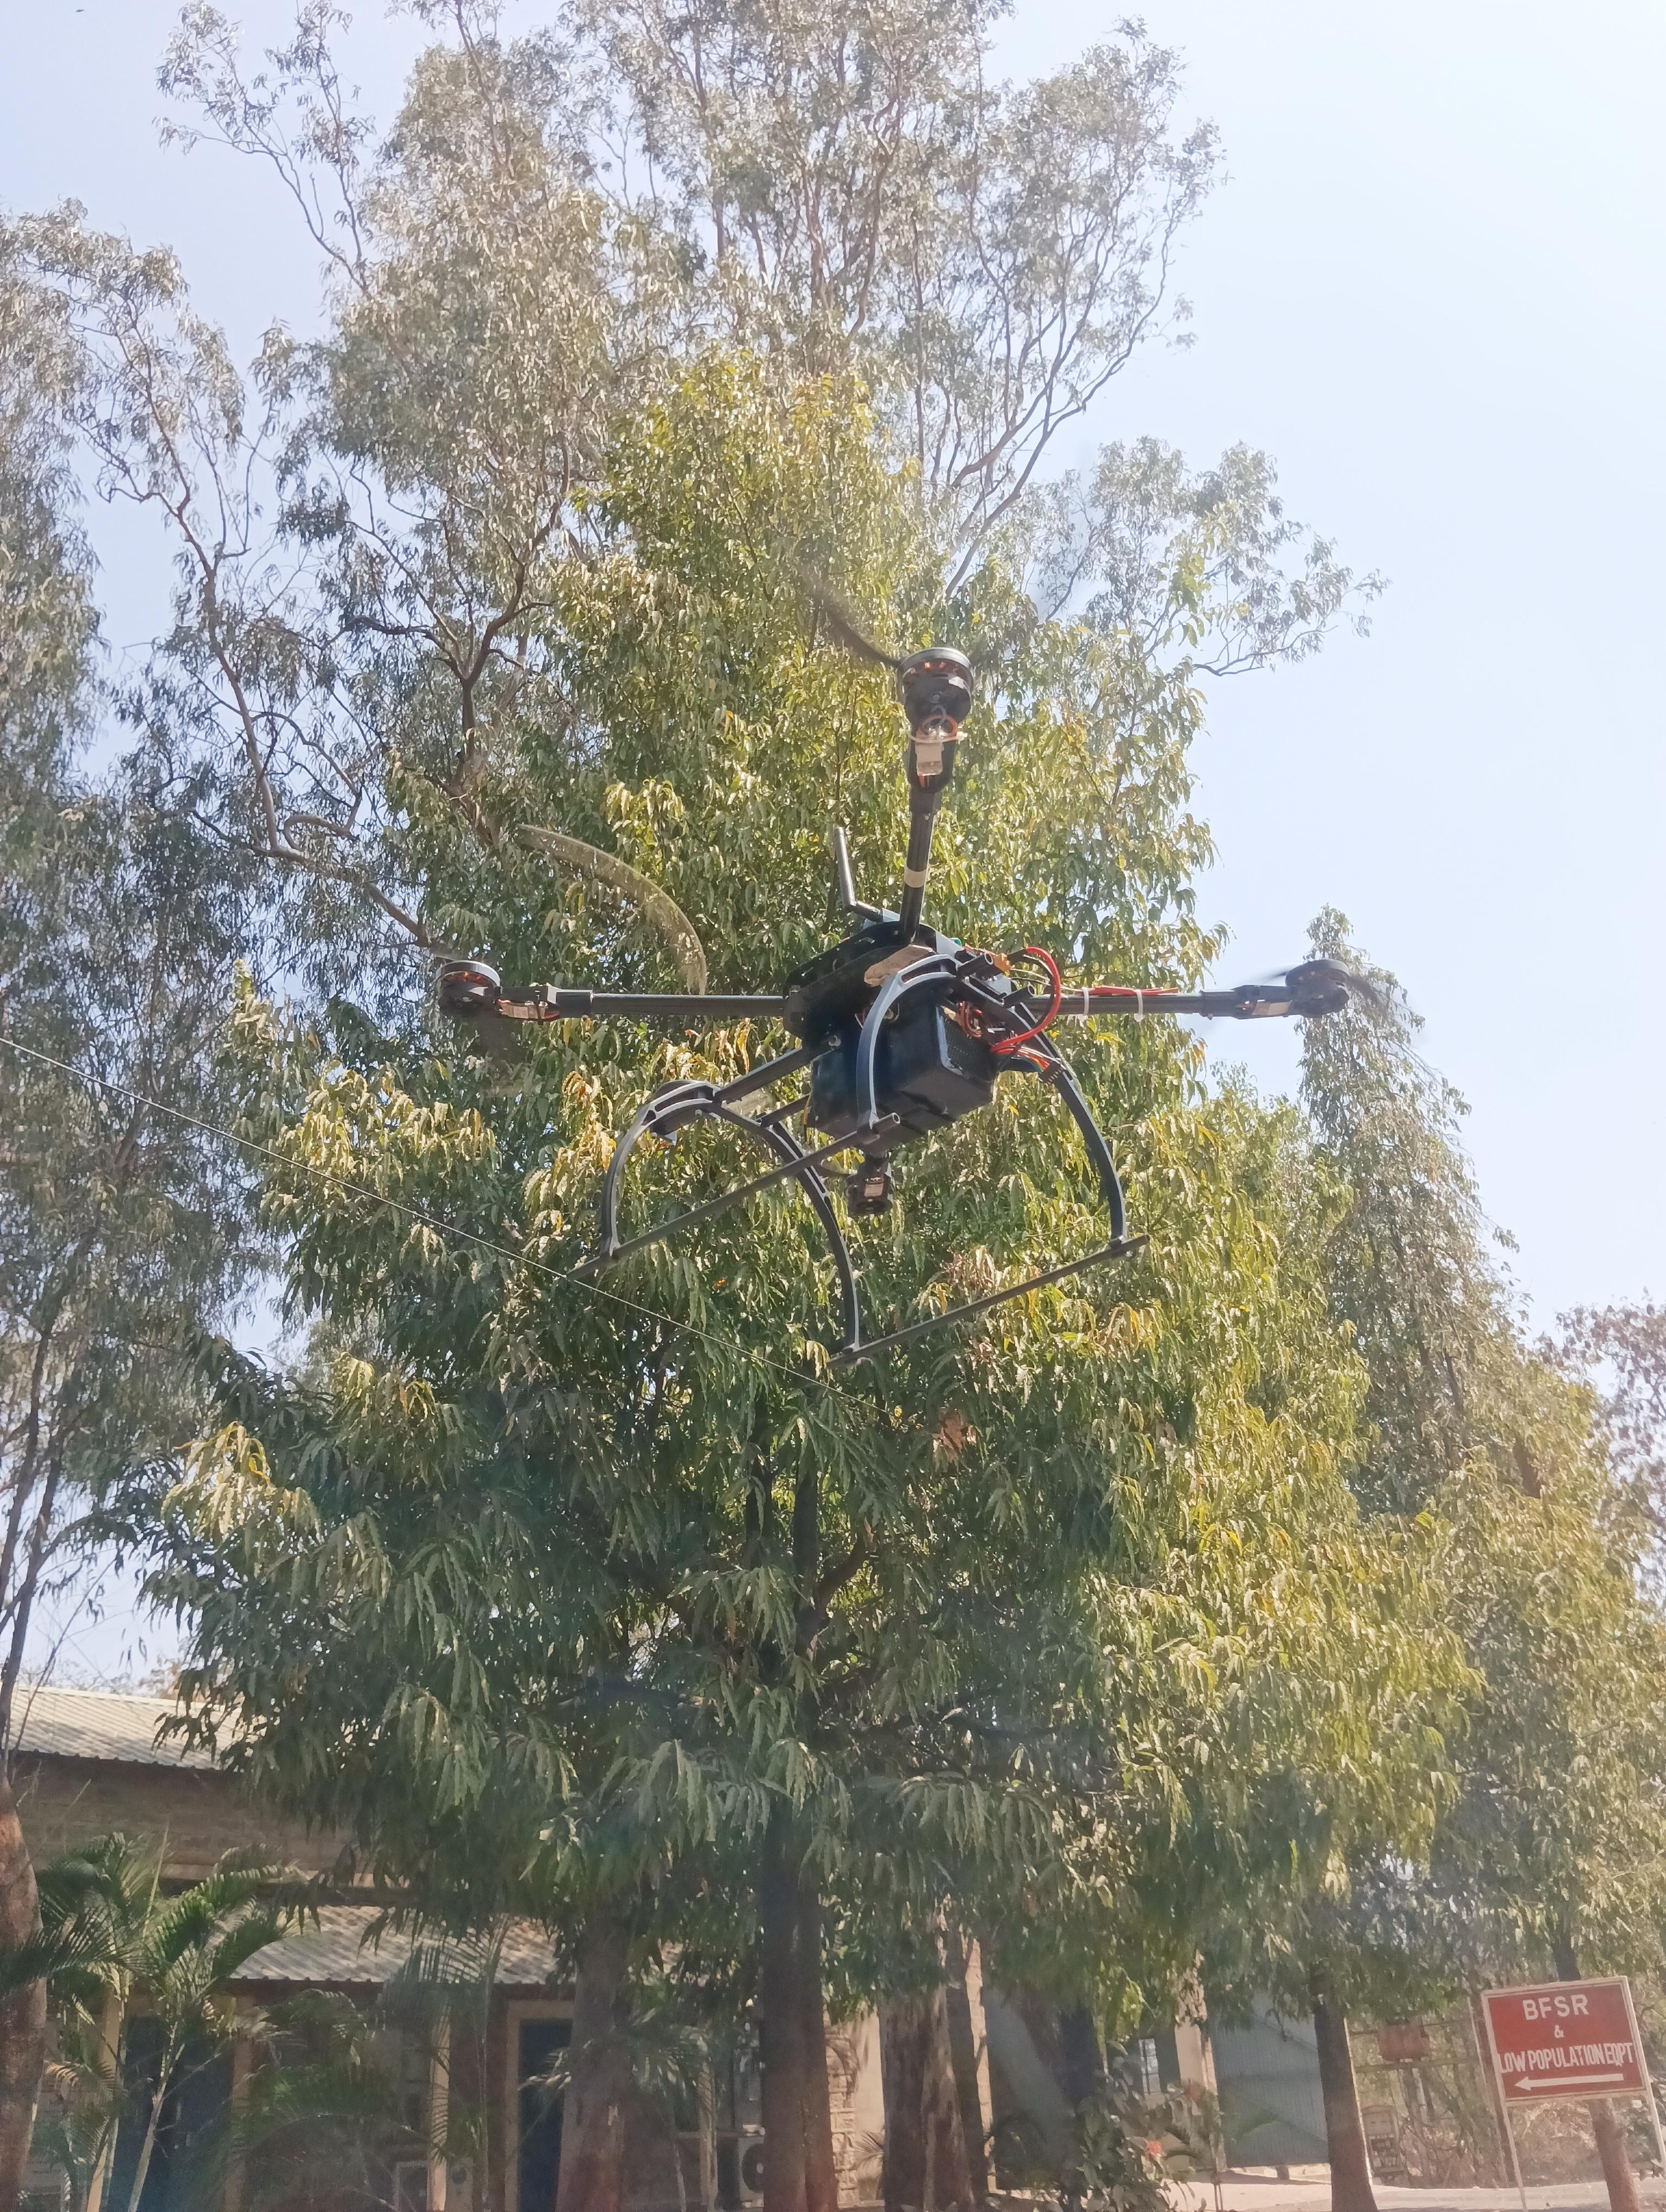drone: (305, 526, 1484, 1387)
